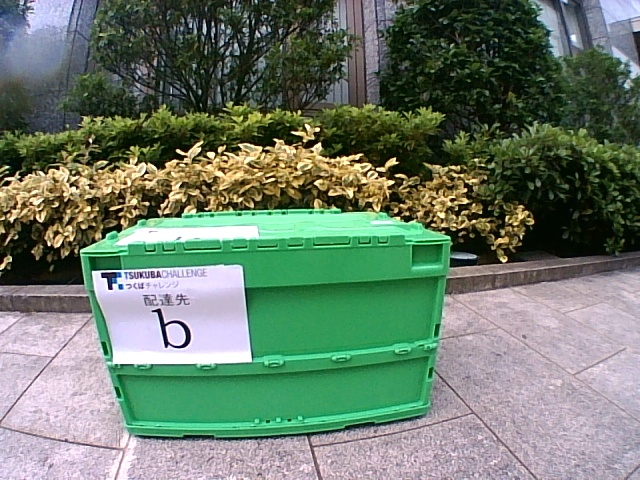blue_box: (80, 210, 451, 435)
tag: (132, 226, 256, 241)
tag_a: (112, 271, 245, 363)
